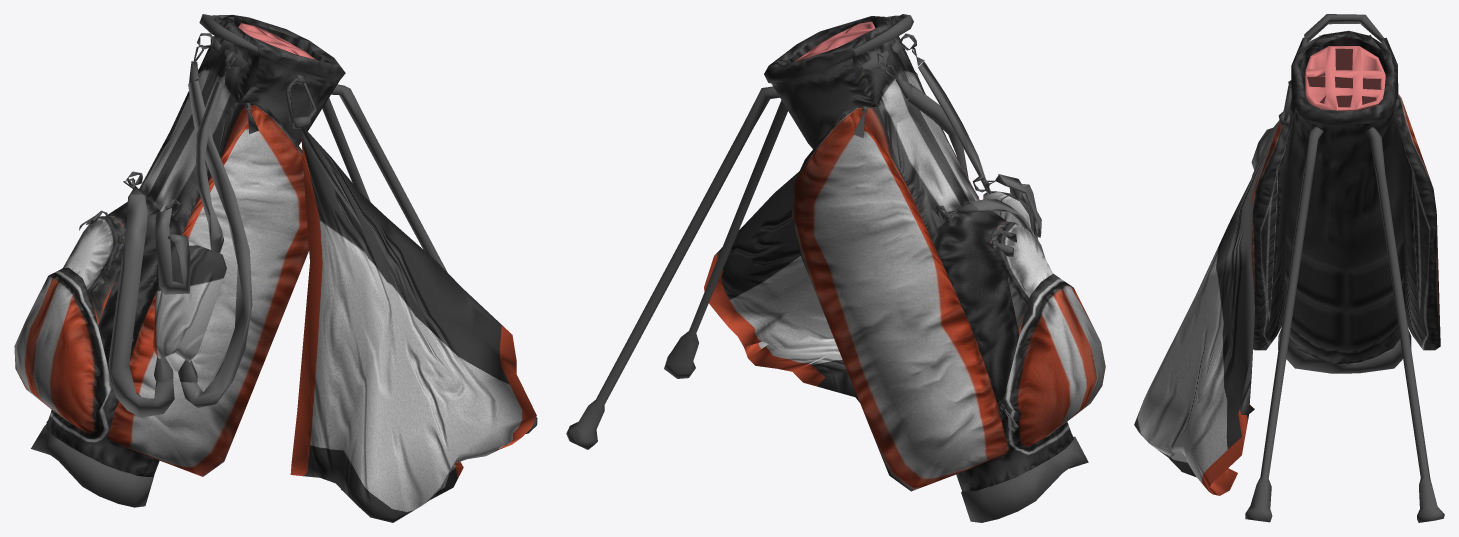
File: travel_bag.dae
The picture shows the model from 3 angles, left to right: view 1: azimuth 30°, elevation 25°; view 2: azimuth 150°, elevation 25°; view 3: azimuth 270°, elevation 25°; orthographic projection. The views are drawn at different scales.
Parts seen in each view (by area): view 1: 11714_bag_v1_L3; view 2: 11714_bag_v1_L3; view 3: 11714_bag_v1_L3.
Part boxes in pixels (bbox=[...]): 11714_bag_v1_L3: bbox=[14, 14, 537, 522]; 11714_bag_v1_L3: bbox=[566, 14, 1105, 522]; 11714_bag_v1_L3: bbox=[1134, 14, 1444, 522].
Size of the model in its own units: 0.5443 by 0.3529 by 0.4983.
Materials: 6 (3 with a texture image).
